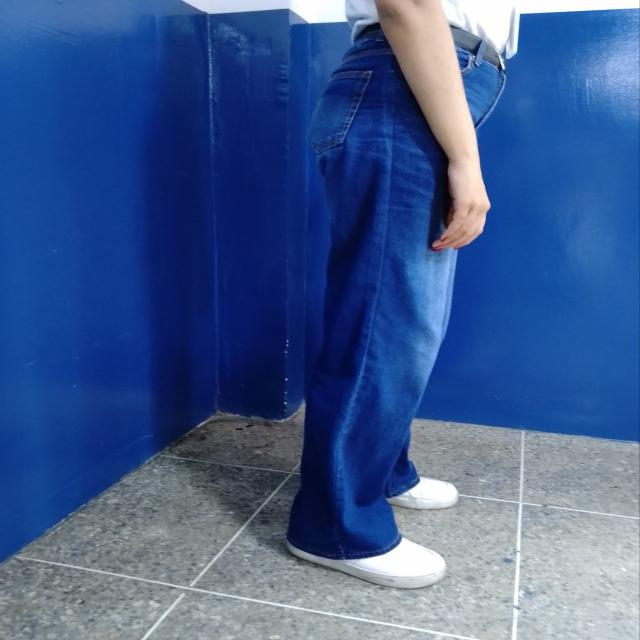pantalon_oscuro: (284, 38, 508, 561)
